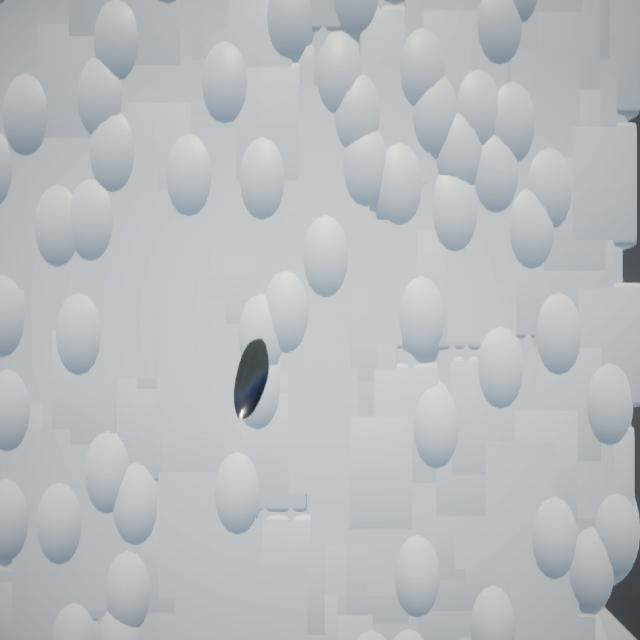top_spoon: (235, 339, 271, 421)
